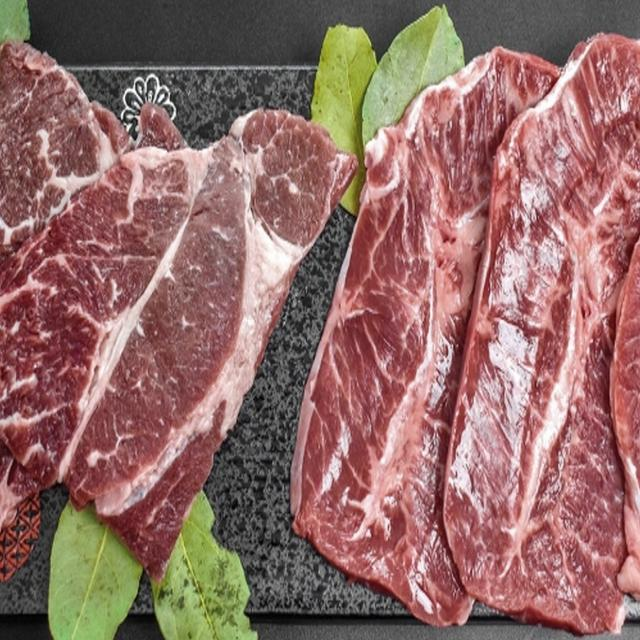beef: (0, 130, 275, 514), (382, 143, 640, 550)
